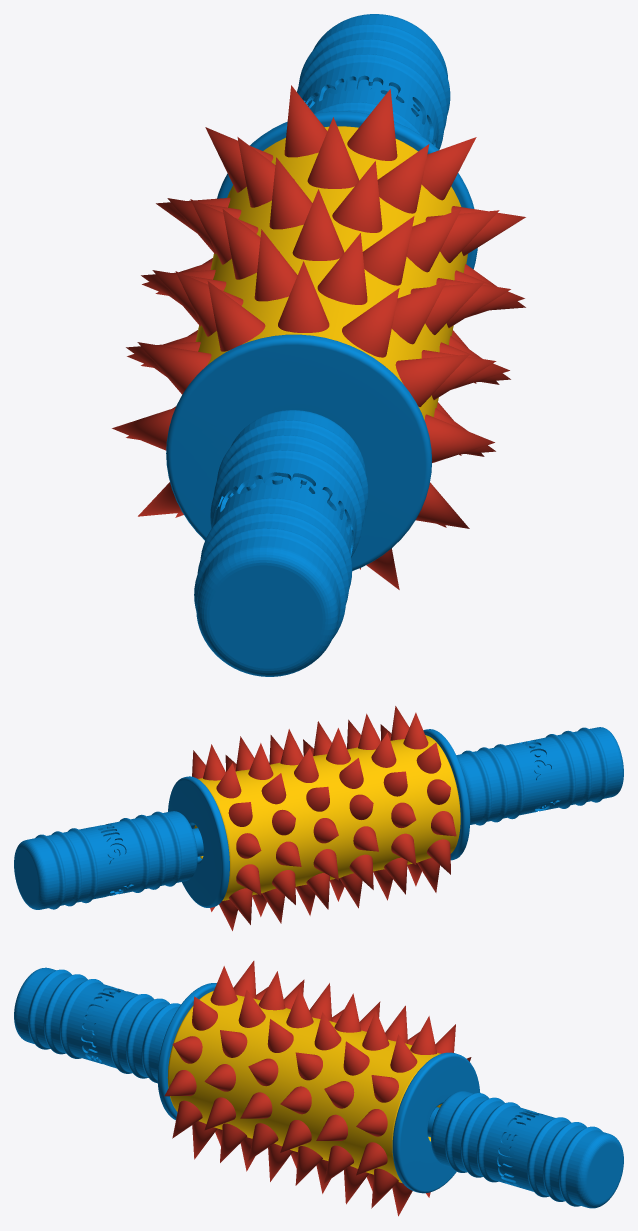
The model's file is two-handed-spike-roller.glb.
3 views of the same model, one above another, from view 1: azimuth 30°, elevation 25°; view 2: azimuth 150°, elevation 25°; view 3: azimuth 270°, elevation 25° (orthographic). The views are drawn at different scales.
Visible parts, largest first — view 1: two-handed-spike-roller-part-077, two-handed-spike-roller-part-002, two-handed-spike-roller-part-001, two-handed-spike-roller-part-078, two-handed-spike-roller-part-003, two-handed-spike-roller-part-019, two-handed-spike-roller-part-043, two-handed-spike-roller-part-067, two-handed-spike-roller-part-007, two-handed-spike-roller-part-008, two-handed-spike-roller-part-055, two-handed-spike-roller-part-031 (+26 smaller); view 2: two-handed-spike-roller-part-001, two-handed-spike-roller-part-078, two-handed-spike-roller-part-077, two-handed-spike-roller-part-003, two-handed-spike-roller-part-002, two-handed-spike-roller-part-039, two-handed-spike-roller-part-066, two-handed-spike-roller-part-018, two-handed-spike-roller-part-063, two-handed-spike-roller-part-042, two-handed-spike-roller-part-007, two-handed-spike-roller-part-075 (+35 smaller); view 3: two-handed-spike-roller-part-001, two-handed-spike-roller-part-078, two-handed-spike-roller-part-077, two-handed-spike-roller-part-003, two-handed-spike-roller-part-002, two-handed-spike-roller-part-022, two-handed-spike-roller-part-043, two-handed-spike-roller-part-070, two-handed-spike-roller-part-046, two-handed-spike-roller-part-067, two-handed-spike-roller-part-007, two-handed-spike-roller-part-011 (+34 smaller).
Part boxes in pixels (x1,y1,x2,y2): two-handed-spike-roller-part-077: [194, 410, 368, 676]; two-handed-spike-roller-part-002: [166, 334, 432, 570]; two-handed-spike-roller-part-001: [195, 126, 467, 419]; two-handed-spike-roller-part-078: [297, 14, 450, 149]; two-handed-spike-roller-part-003: [217, 111, 477, 269]; two-handed-spike-roller-part-019: [317, 233, 367, 304]; two-handed-spike-roller-part-043: [332, 161, 382, 232]; two-handed-spike-roller-part-067: [347, 89, 397, 160]; two-handed-spike-roller-part-007: [278, 261, 329, 332]; two-handed-spike-roller-part-008: [342, 288, 399, 357]; two-handed-spike-roller-part-055: [307, 117, 359, 188]; two-handed-spike-roller-part-031: [292, 189, 344, 260]; two-handed-spike-roller-part-001: [194, 735, 460, 900]; two-handed-spike-roller-part-078: [14, 811, 197, 909]; two-handed-spike-roller-part-077: [456, 727, 623, 825]; two-handed-spike-roller-part-003: [168, 776, 229, 907]; two-handed-spike-roller-part-002: [423, 729, 470, 860]; two-handed-spike-roller-part-039: [349, 854, 373, 889]; two-handed-spike-roller-part-066: [216, 763, 241, 798]; two-handed-spike-roller-part-018: [371, 732, 396, 767]; two-handed-spike-roller-part-063: [272, 870, 295, 904]; two-handed-spike-roller-part-042: [294, 748, 318, 782]; two-handed-spike-roller-part-007: [403, 712, 428, 749]; two-handed-spike-roller-part-075: [236, 864, 261, 895]; two-handed-spike-roller-part-001: [167, 991, 441, 1182]; two-handed-spike-roller-part-078: [431, 1091, 623, 1208]; two-handed-spike-roller-part-077: [14, 967, 180, 1082]; two-handed-spike-roller-part-003: [392, 1052, 480, 1193]; two-handed-spike-roller-part-002: [157, 983, 216, 1120]; two-handed-spike-roller-part-022: [204, 1097, 235, 1130]; two-handed-spike-roller-part-043: [314, 1012, 341, 1050]; two-handed-spike-roller-part-070: [356, 1142, 387, 1175]; two-handed-spike-roller-part-046: [280, 1120, 311, 1152]; two-handed-spike-roller-part-067: [390, 1034, 417, 1072]; two-handed-spike-roller-part-007: [210, 966, 237, 1005]; two-handed-spike-roller-part-011: [172, 1100, 202, 1138].
Size of the model in its own units: 2.25 by 1.03 by 3.
